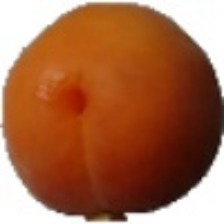apricot: (26, 0, 189, 196)
